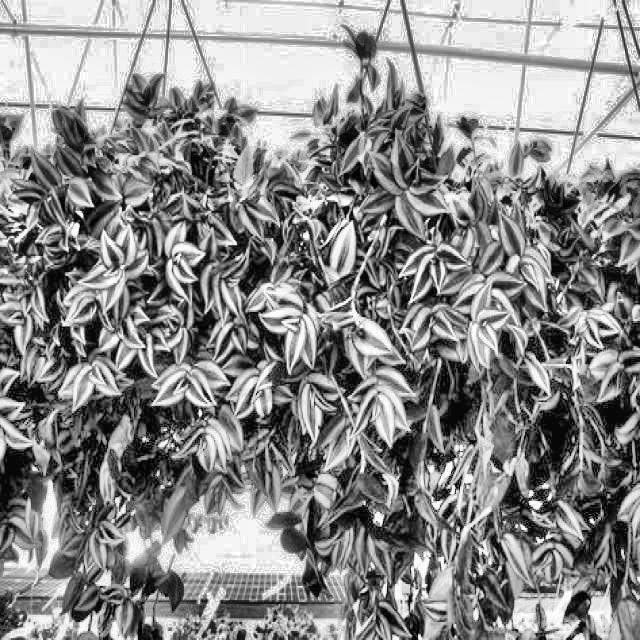plants: (257, 22, 552, 640), (28, 82, 304, 514), (523, 160, 640, 639), (0, 107, 58, 566)
